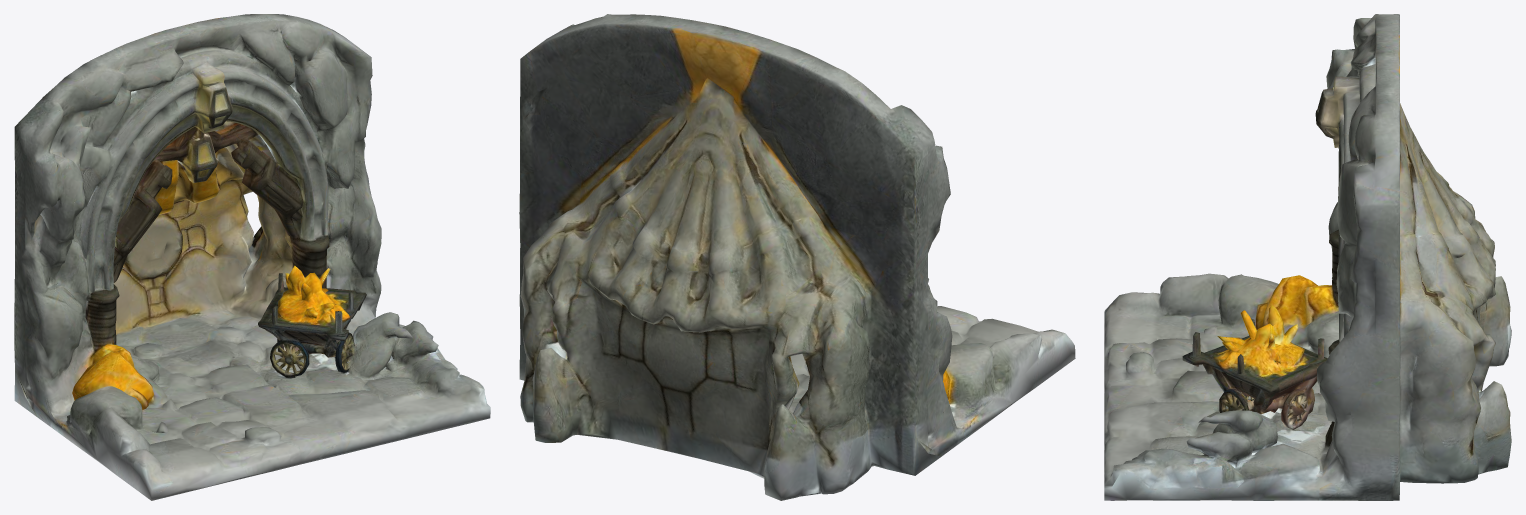
File: goldmine.glb
3 renders of one model, left to right at view 1: azimuth 30°, elevation 25°; view 2: azimuth 150°, elevation 25°; view 3: azimuth 270°, elevation 25°, orthographic. The views are drawn at different scales.
Size of the model in its own units: 1.91 by 1.8 by 1.85.
Materials: 1 (1 with a texture image).
